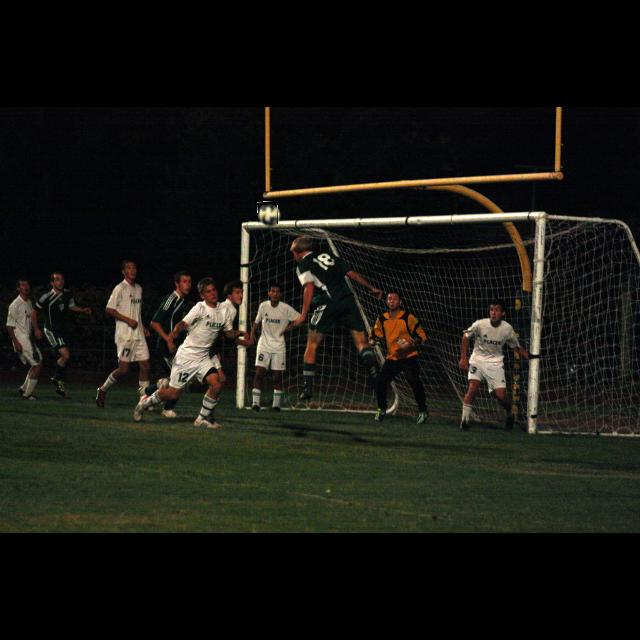Football: (258, 202, 278, 224)
